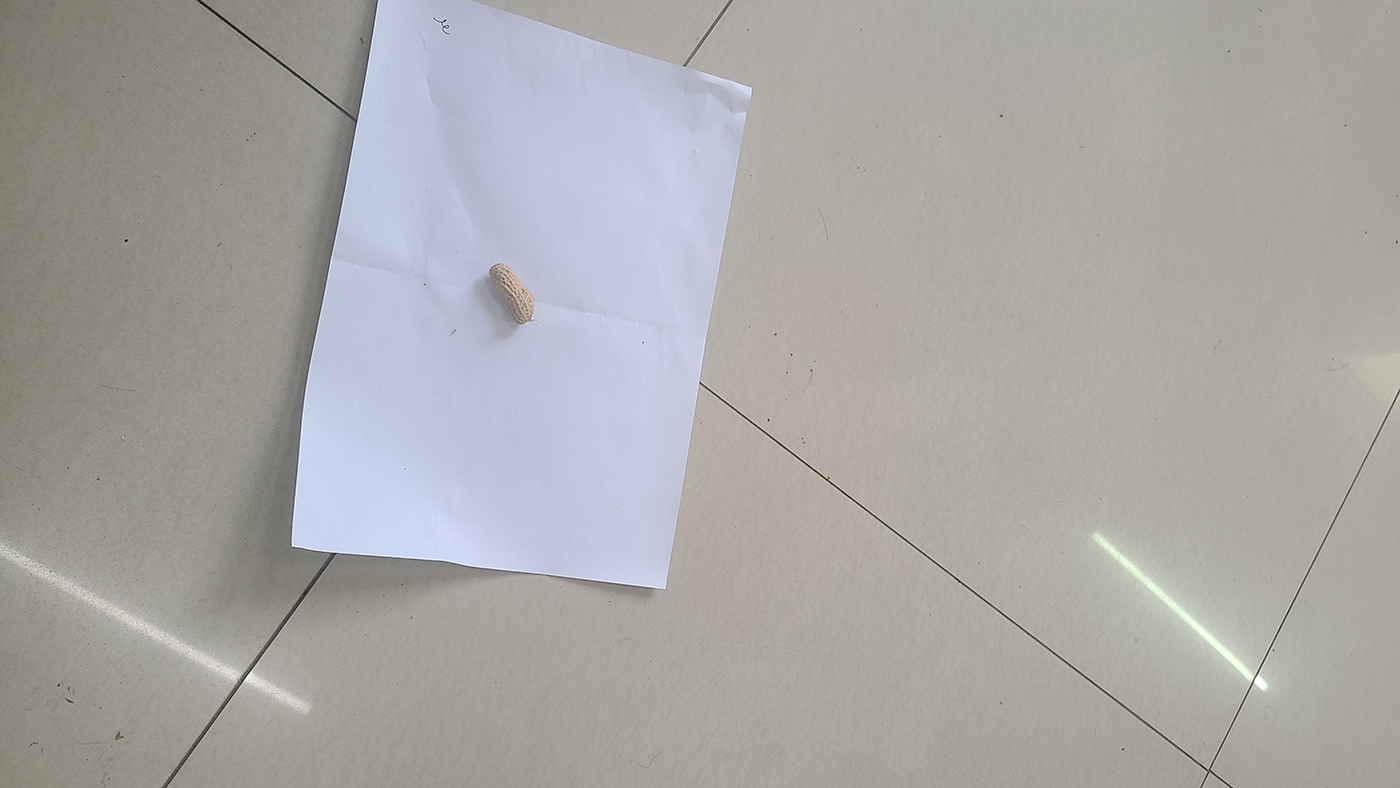h: (488, 263, 534, 324)
